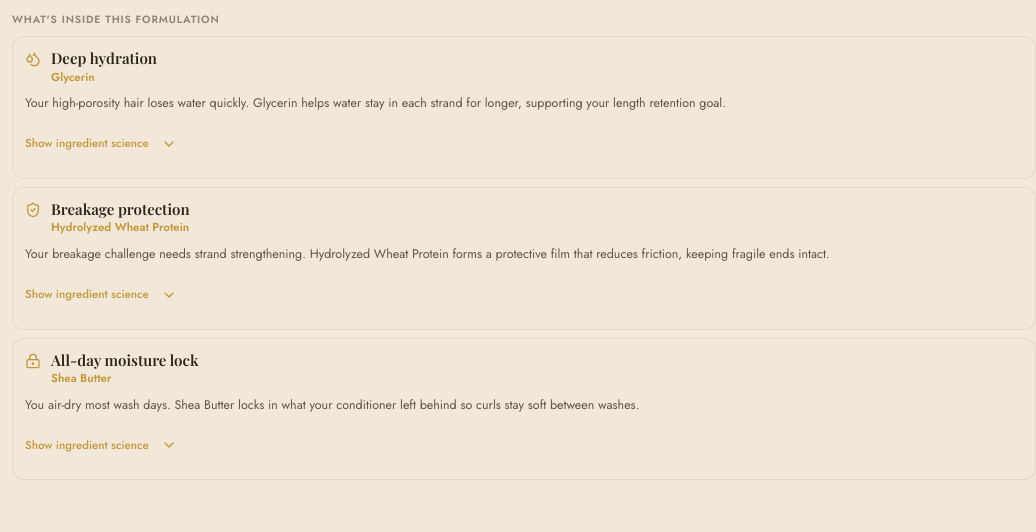
Test: IngredientBenefitCards › keeps a quiet analysing state when prefetch and tap retrieval fail
Click the button "Show ingredient science" below "Deep hydration".
click(101, 144)  # box [25, 122, 177, 166]
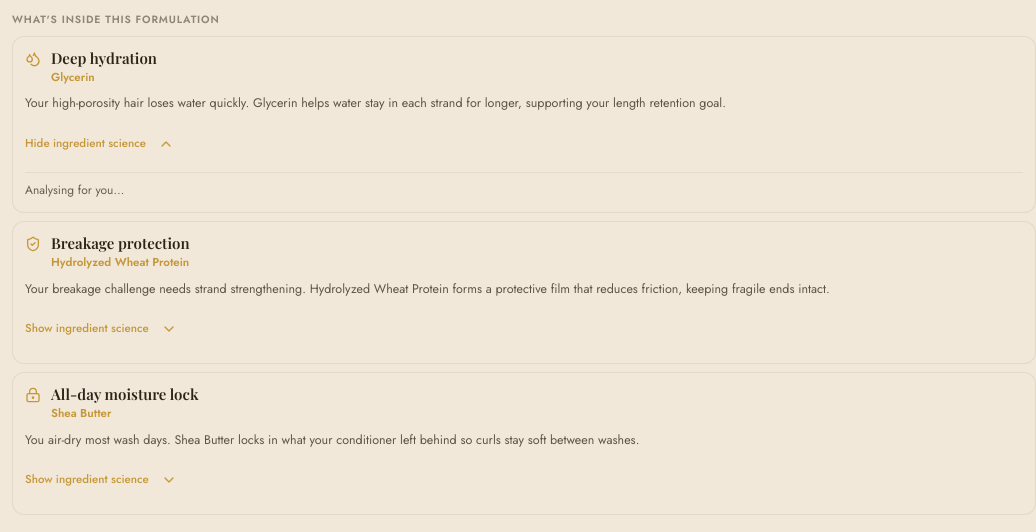
Now the text "Analysing for you…" is shown, box [25, 181, 124, 199]
